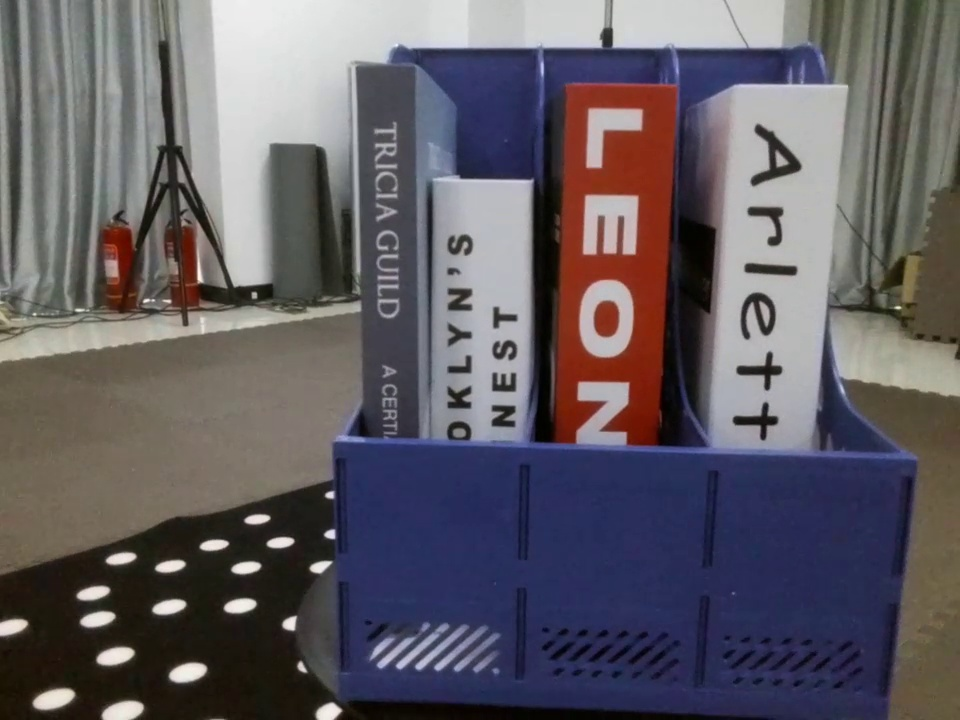files: (302, 25, 921, 719)
